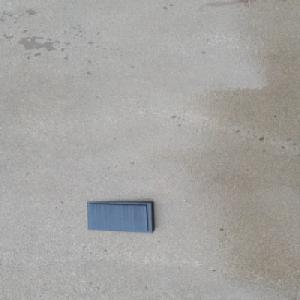PlasticPart: (86, 200, 156, 233)
